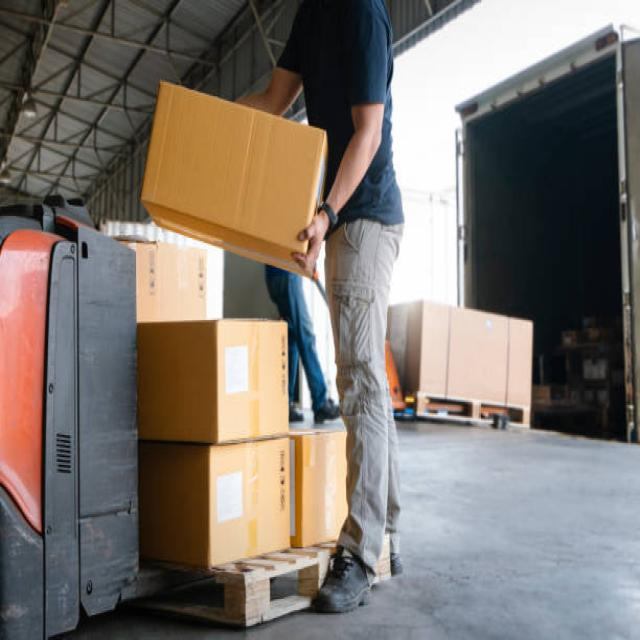Wooden-Pallets: (140, 556, 323, 632), (413, 387, 533, 437)
